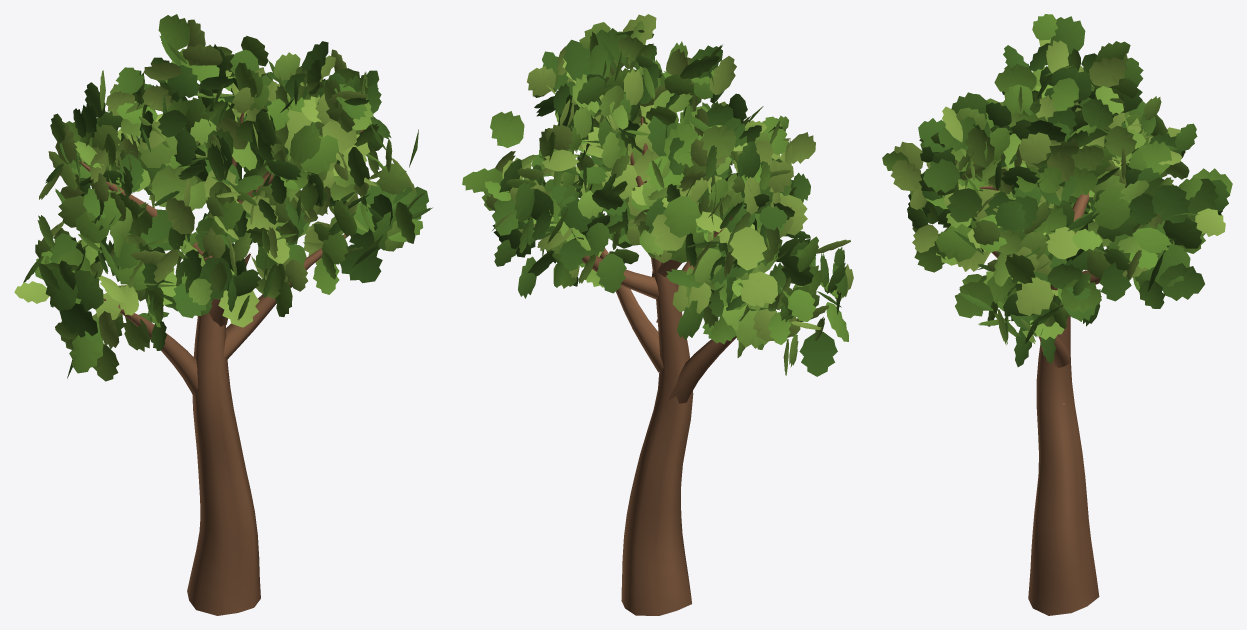
File: cincis-oak-leaf-geometry-experiment.glb
The picture shows the model from 3 angles, left to right: view 1: azimuth 30°, elevation 25°; view 2: azimuth 150°, elevation 25°; view 3: azimuth 270°, elevation 25°; orthographic projection. The views are drawn at different scales.
Visible parts, largest first — view 1: Cincis_Oak_Leaf_Geometry_Experiment; view 2: Cincis_Oak_Leaf_Geometry_Experiment; view 3: Cincis_Oak_Leaf_Geometry_Experiment.
Part boxes in pixels (x1,y1,x2,y2): Cincis_Oak_Leaf_Geometry_Experiment: (14, 14, 432, 615); Cincis_Oak_Leaf_Geometry_Experiment: (462, 14, 853, 615); Cincis_Oak_Leaf_Geometry_Experiment: (882, 14, 1232, 615).
Bounding box in the file's own units: 5.67 × 8.31 × 4.73.
